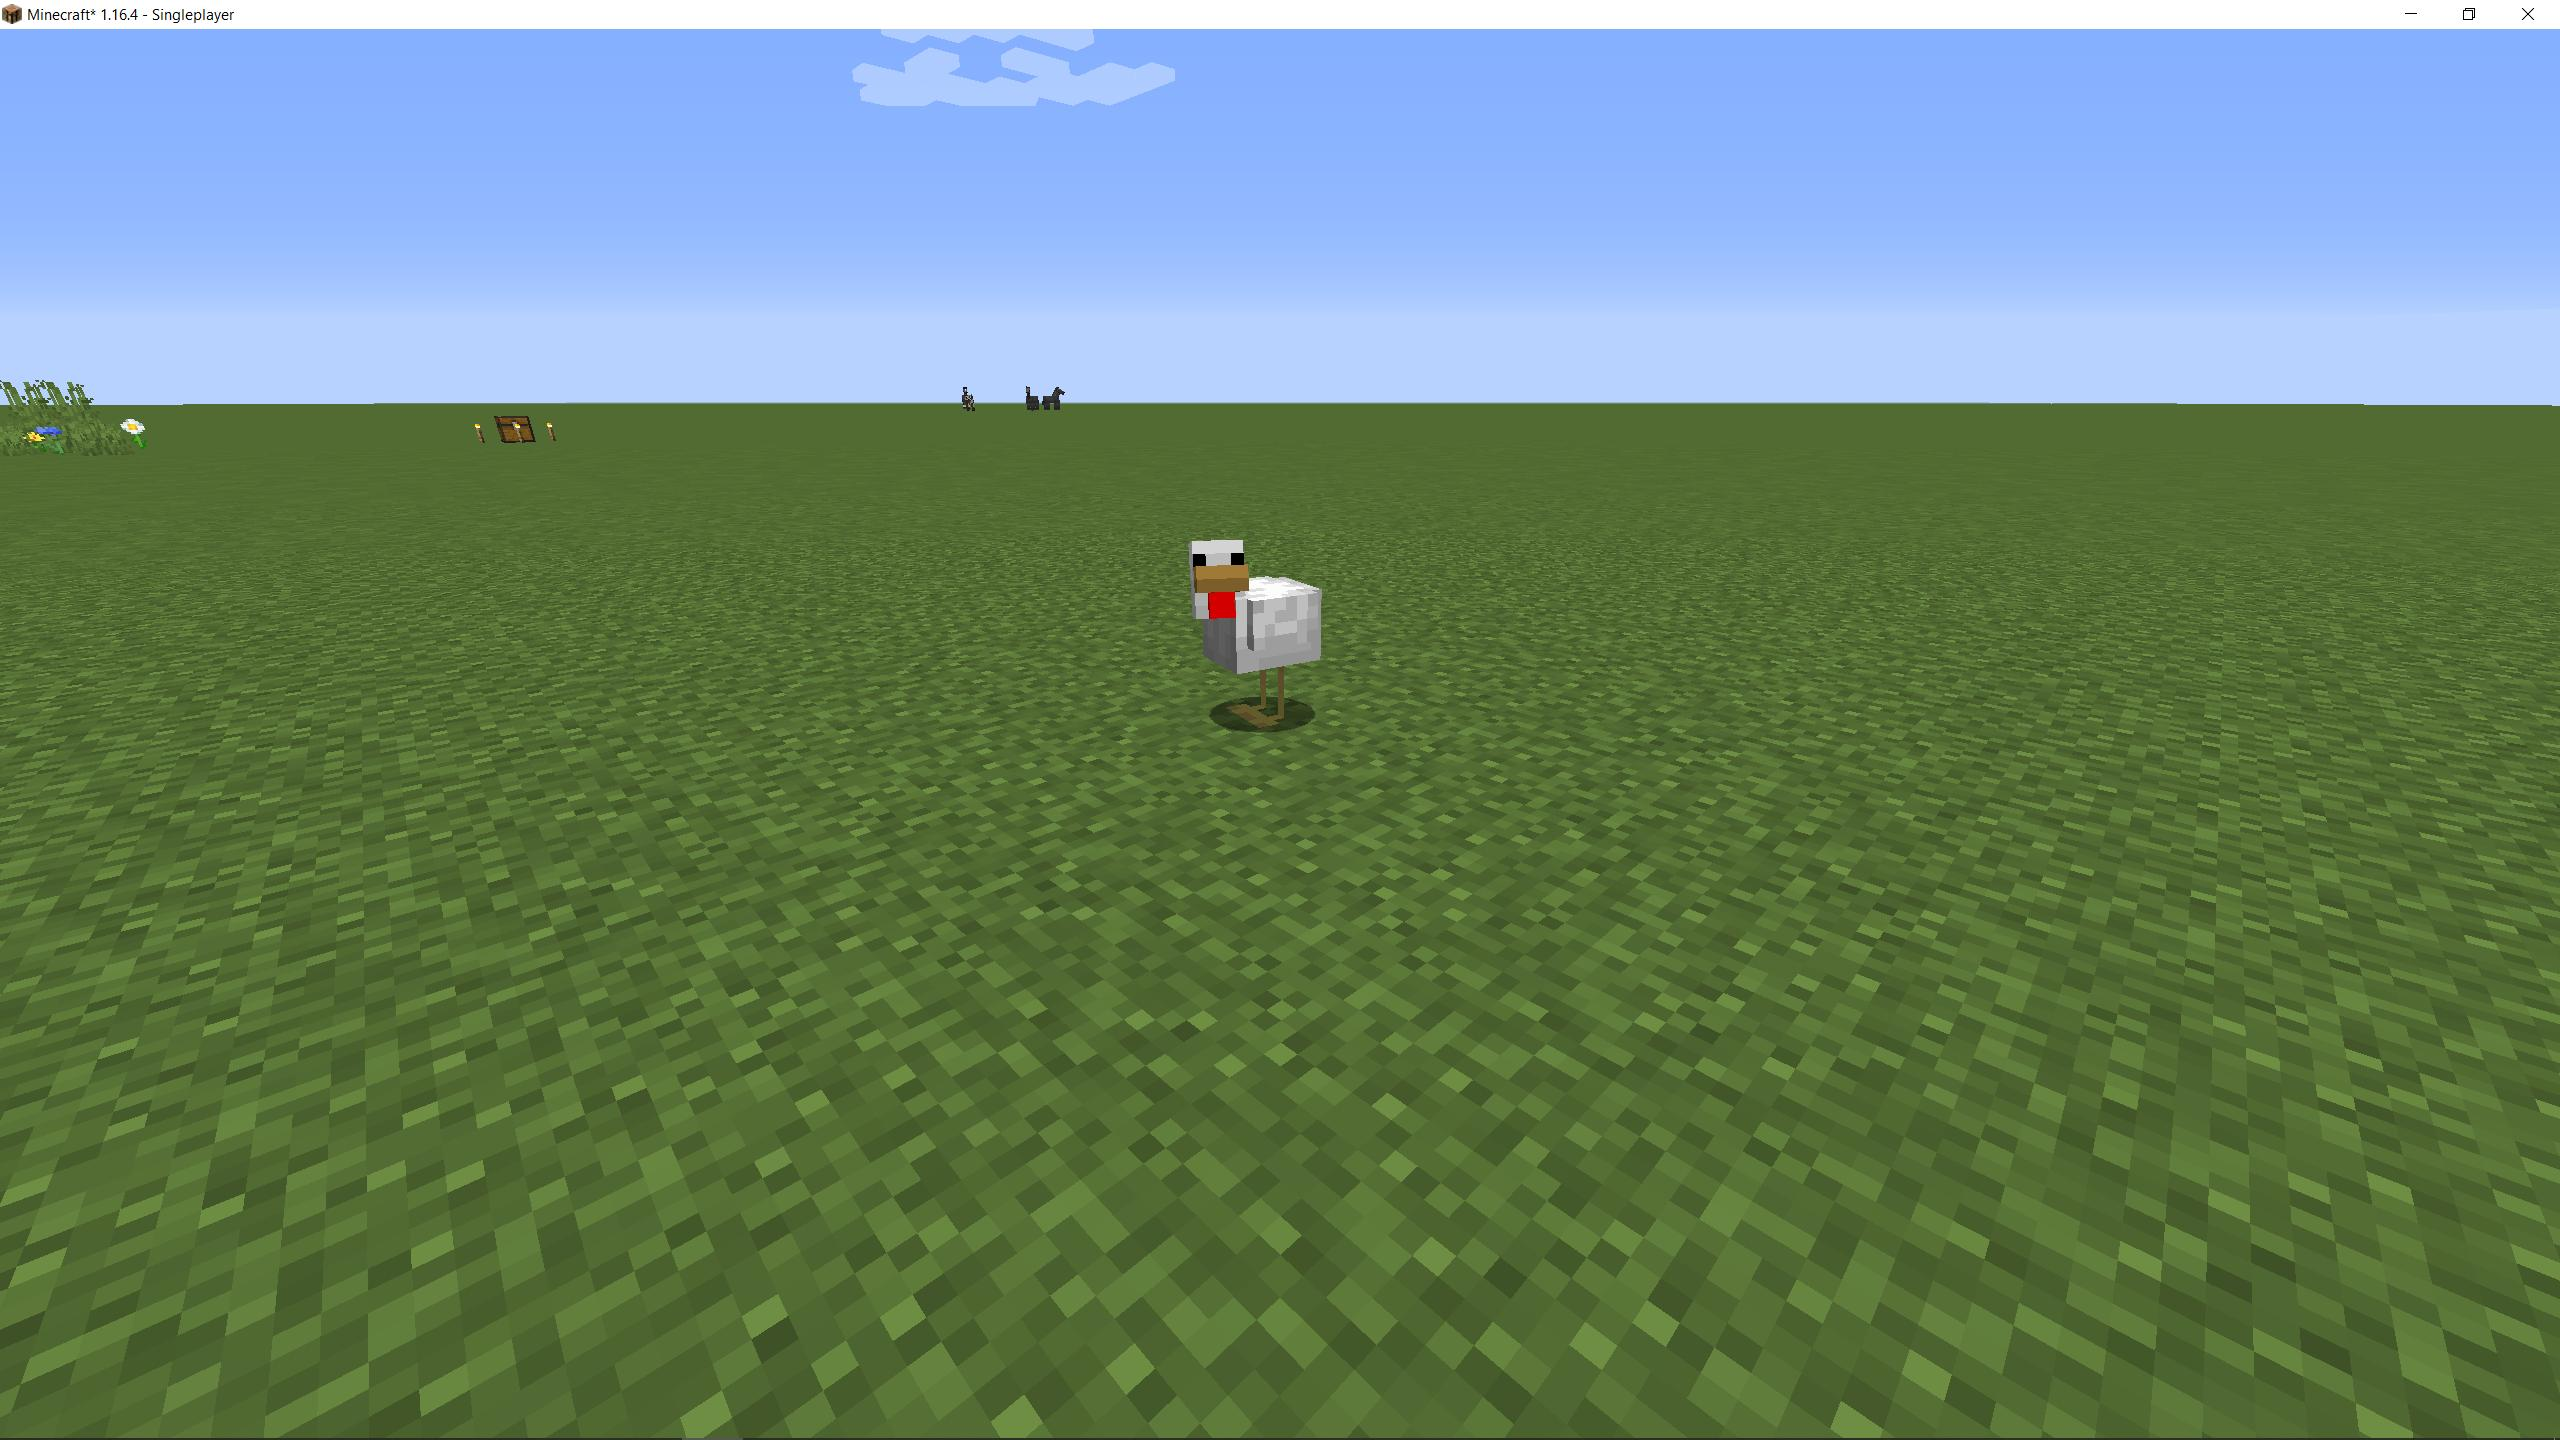chicken: (1176, 527, 1335, 730)
